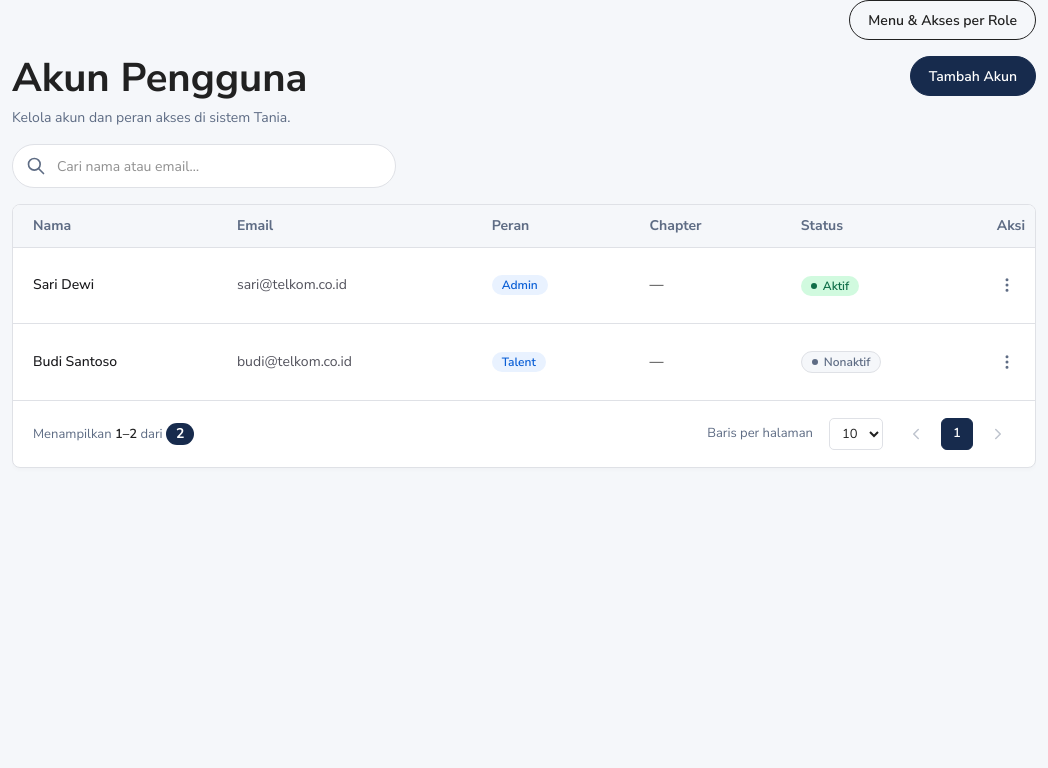
Scenario: accounts management (Admin) — T053 › revokes sessions only after the confirmation step
This screenshot has width=1048, height=768.
Expected: the text "Sari Dewi" is shown, left=13, top=248, right=217, bottom=324
Step 1. Click the button named "Aksi Sari Dewi" → (1007, 285), box left=989, top=267, right=1025, bottom=303
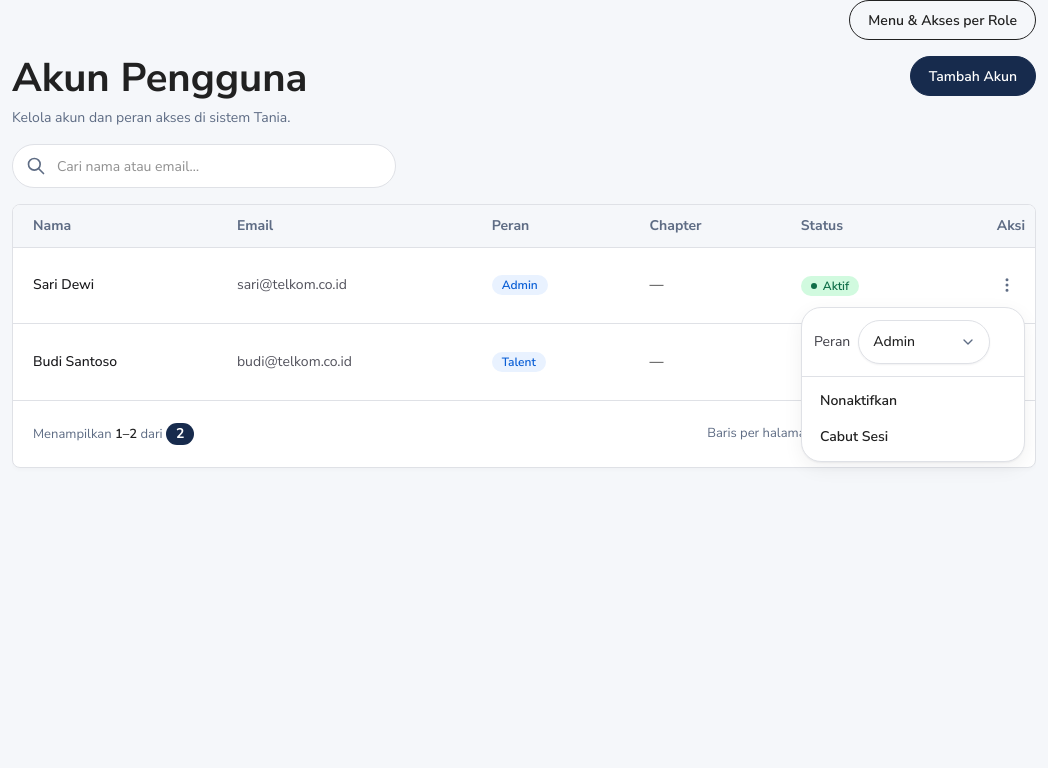
Step 2. Click the button "Cabut Sesi" → (913, 437), box left=808, top=419, right=1018, bottom=455
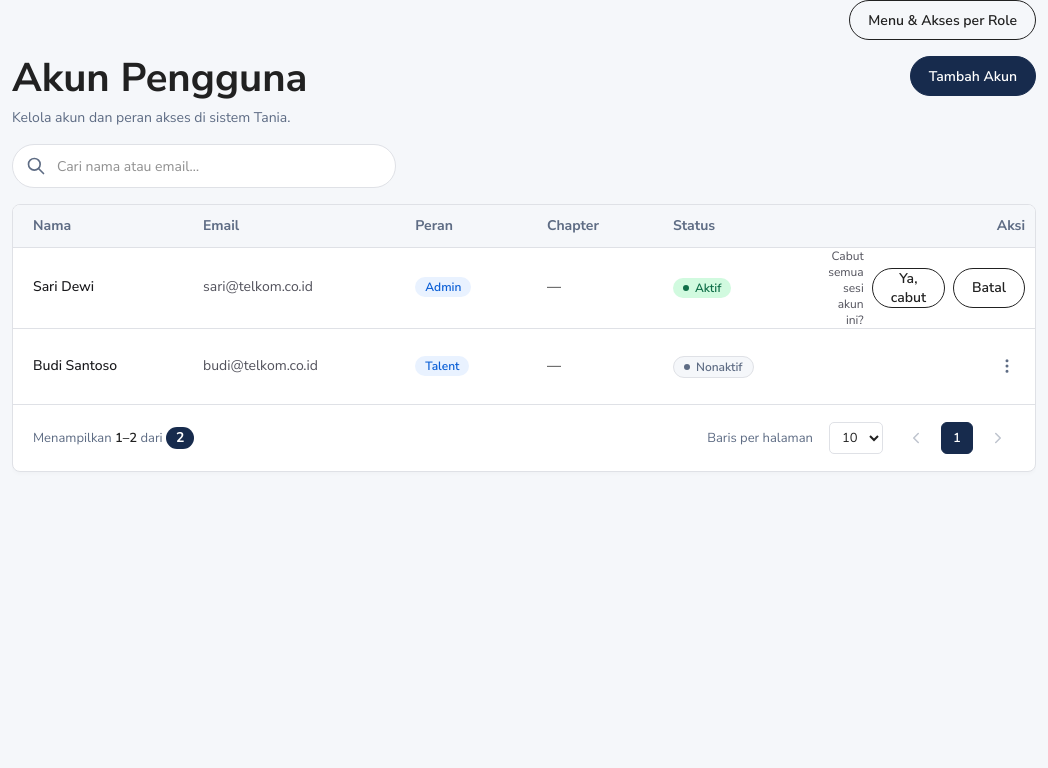
Expected: the text "Cabut semua sesi akun ini?" is shown, left=828, top=248, right=864, bottom=328
Step 3. Click the button "Ya, cabut" → (908, 288), box left=872, top=268, right=945, bottom=308
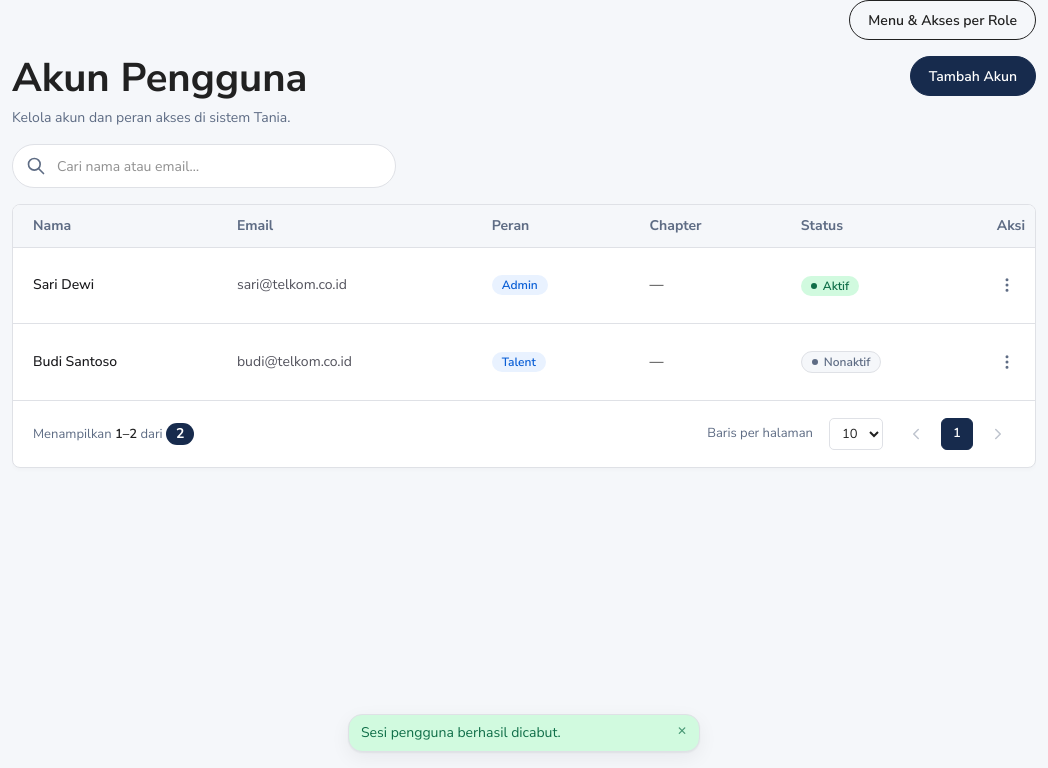
Expected: the message shows "Sesi pengguna berhasil dicabut.", left=361, top=723, right=561, bottom=742
